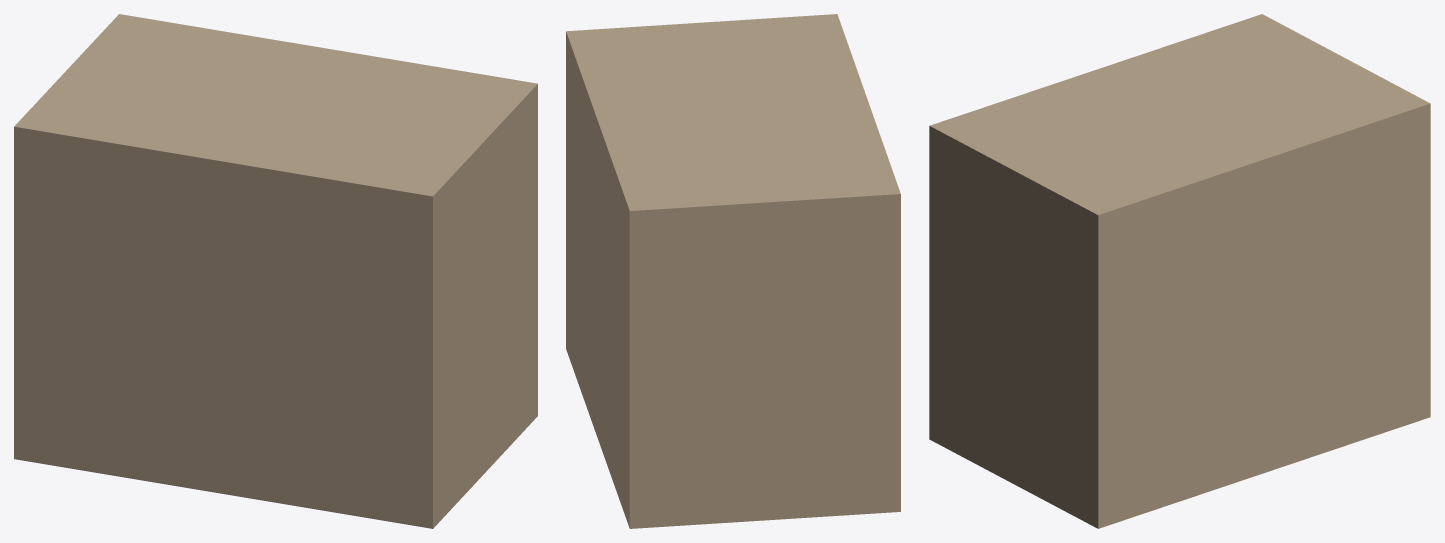
File: bld_100478303.dae
3 renders of one model, left to right at view 1: azimuth 30°, elevation 25°; view 2: azimuth 150°, elevation 25°; view 3: azimuth 270°, elevation 25°, orthographic. The views are drawn at different scales.
Parts seen in each view (by area): view 1: bld_100478303; view 2: bld_100478303; view 3: bld_100478303.
Boxes of the visible parts, x1,y1,x2,y2 form: bld_100478303: (14, 14, 537, 528); bld_100478303: (566, 14, 900, 528); bld_100478303: (929, 14, 1430, 528).
Bounding box in the file's own units: 11.01 × 11.58 × 8.
